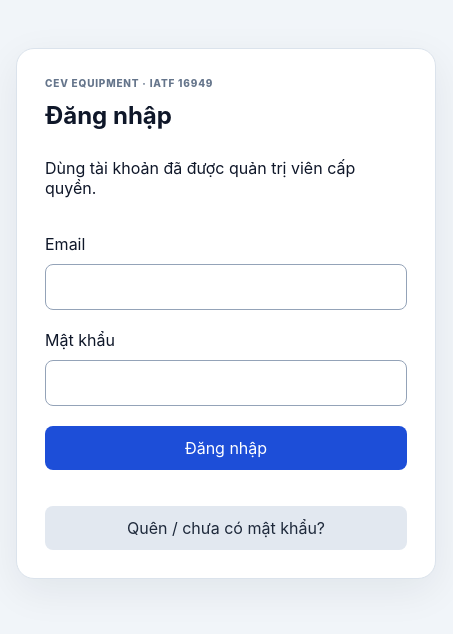
Test: Supabase authentication boundary › reports invalid credentials and stays signed out
The width and height of the screenshot is (453, 634).
Type "test@example.com" into the field labelled "Email" at [226, 286], box [45,264,407,310]
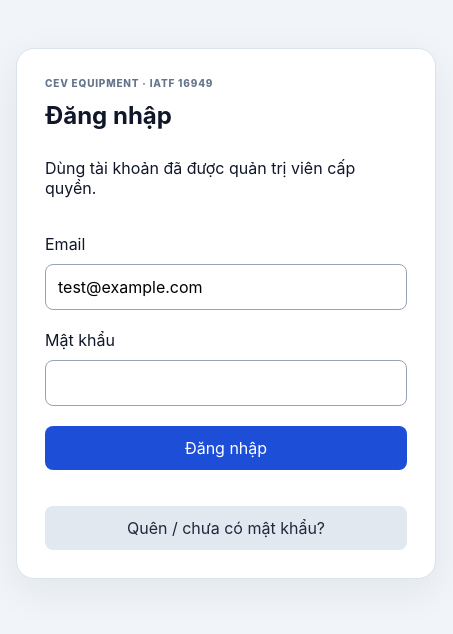
Type "wrong-password" into the password field labelled "Mật khẩu" at [226, 382], box [45,360,407,406]
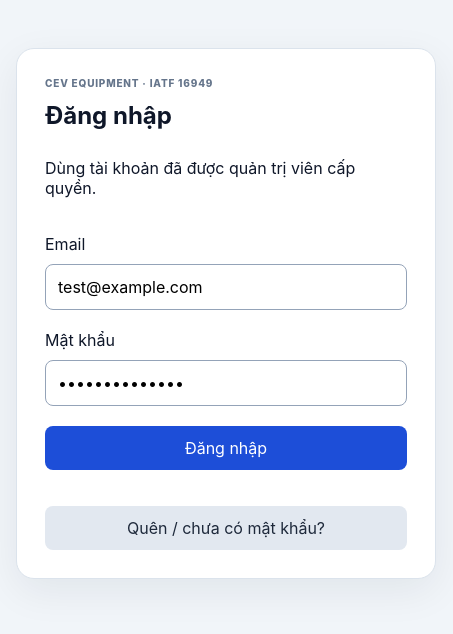
Click the button "Đăng nhập" at [226, 448], box [45,426,407,470]
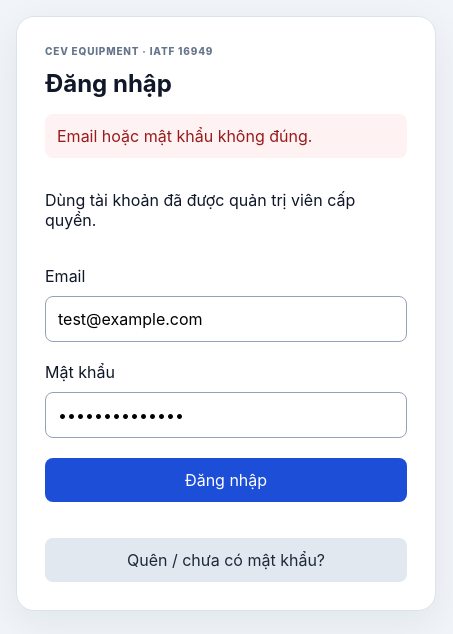
expect the message shows "Email hoặc mật khẩu không đúng": met, box [57,126,312,146]
